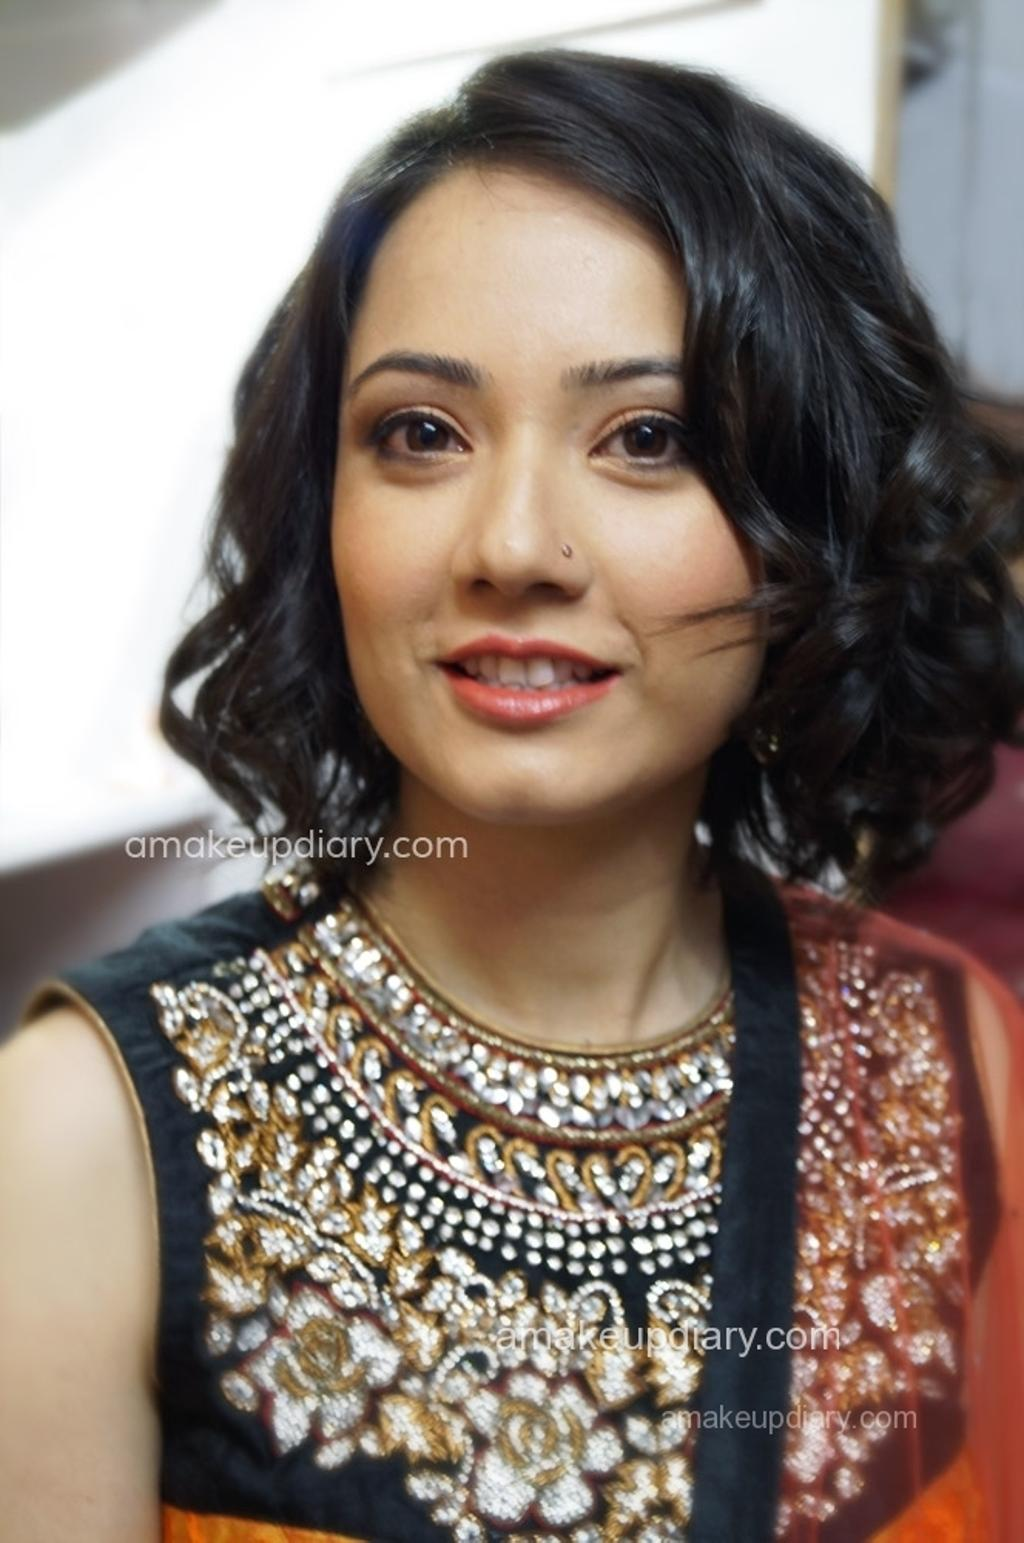face: (340, 178, 786, 820)
